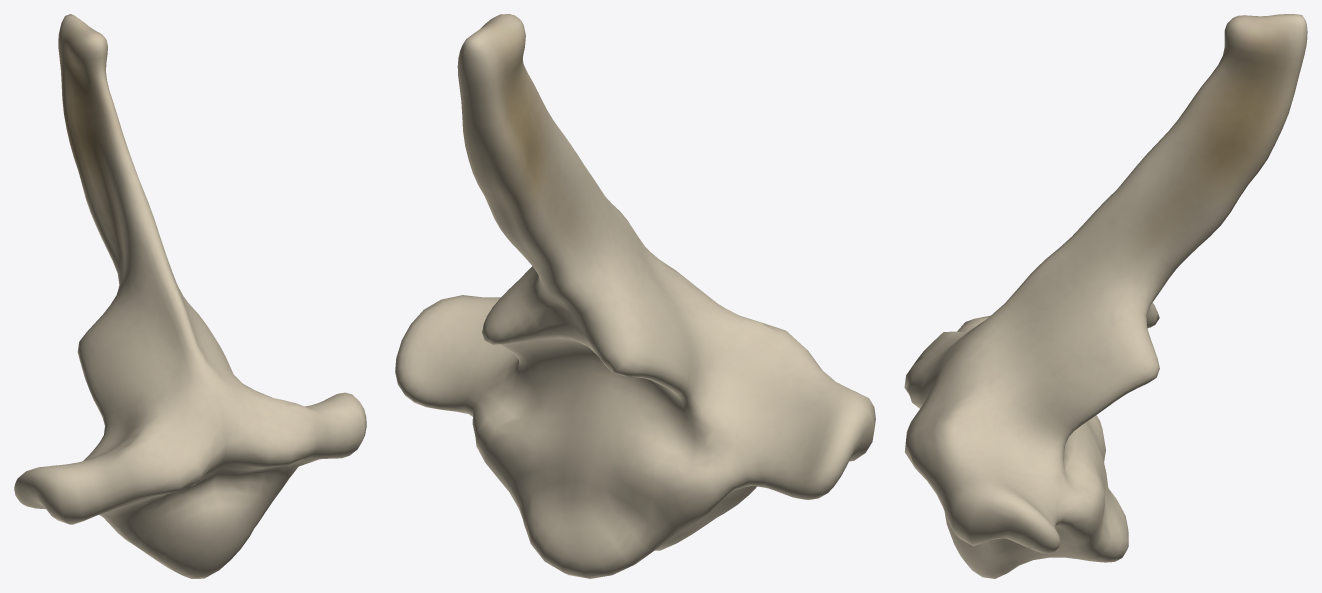
The model's file is vertebrae thoracicae 04.fbx.
3 renders of one model, left to right at view 1: azimuth 30°, elevation 25°; view 2: azimuth 150°, elevation 25°; view 3: azimuth 270°, elevation 25°, orthographic. The views are drawn at different scales.
Parts seen in each view (by area): view 1: vertebrae thoracicae 04; view 2: vertebrae thoracicae 04; view 3: vertebrae thoracicae 04.
Part boxes in pixels (x1,y1,x2,y2): vertebrae thoracicae 04: [14, 14, 366, 578]; vertebrae thoracicae 04: [395, 14, 875, 578]; vertebrae thoracicae 04: [904, 14, 1307, 578].
Bounding box in the file's own units: 10.49 × 14.34 × 9.36.
